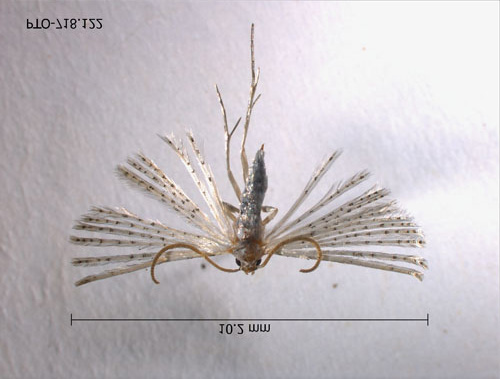Alucitidae: (71, 21, 432, 290)
moth: (73, 23, 434, 292)
